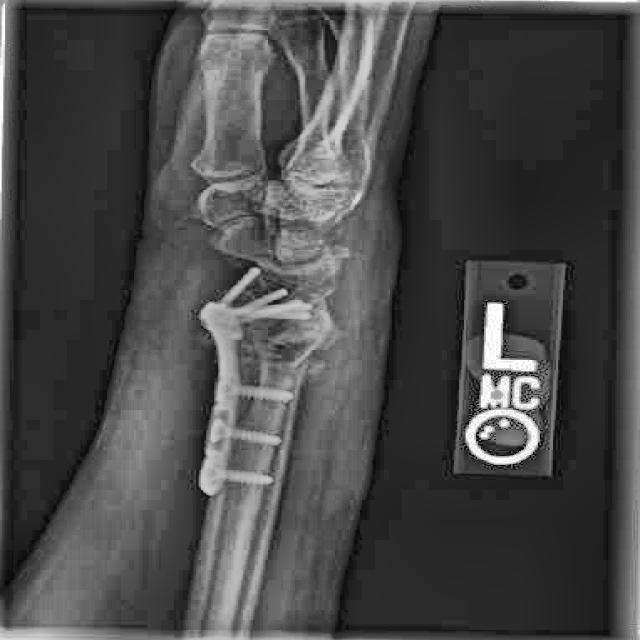fingers positive: (170, 307, 364, 388)
